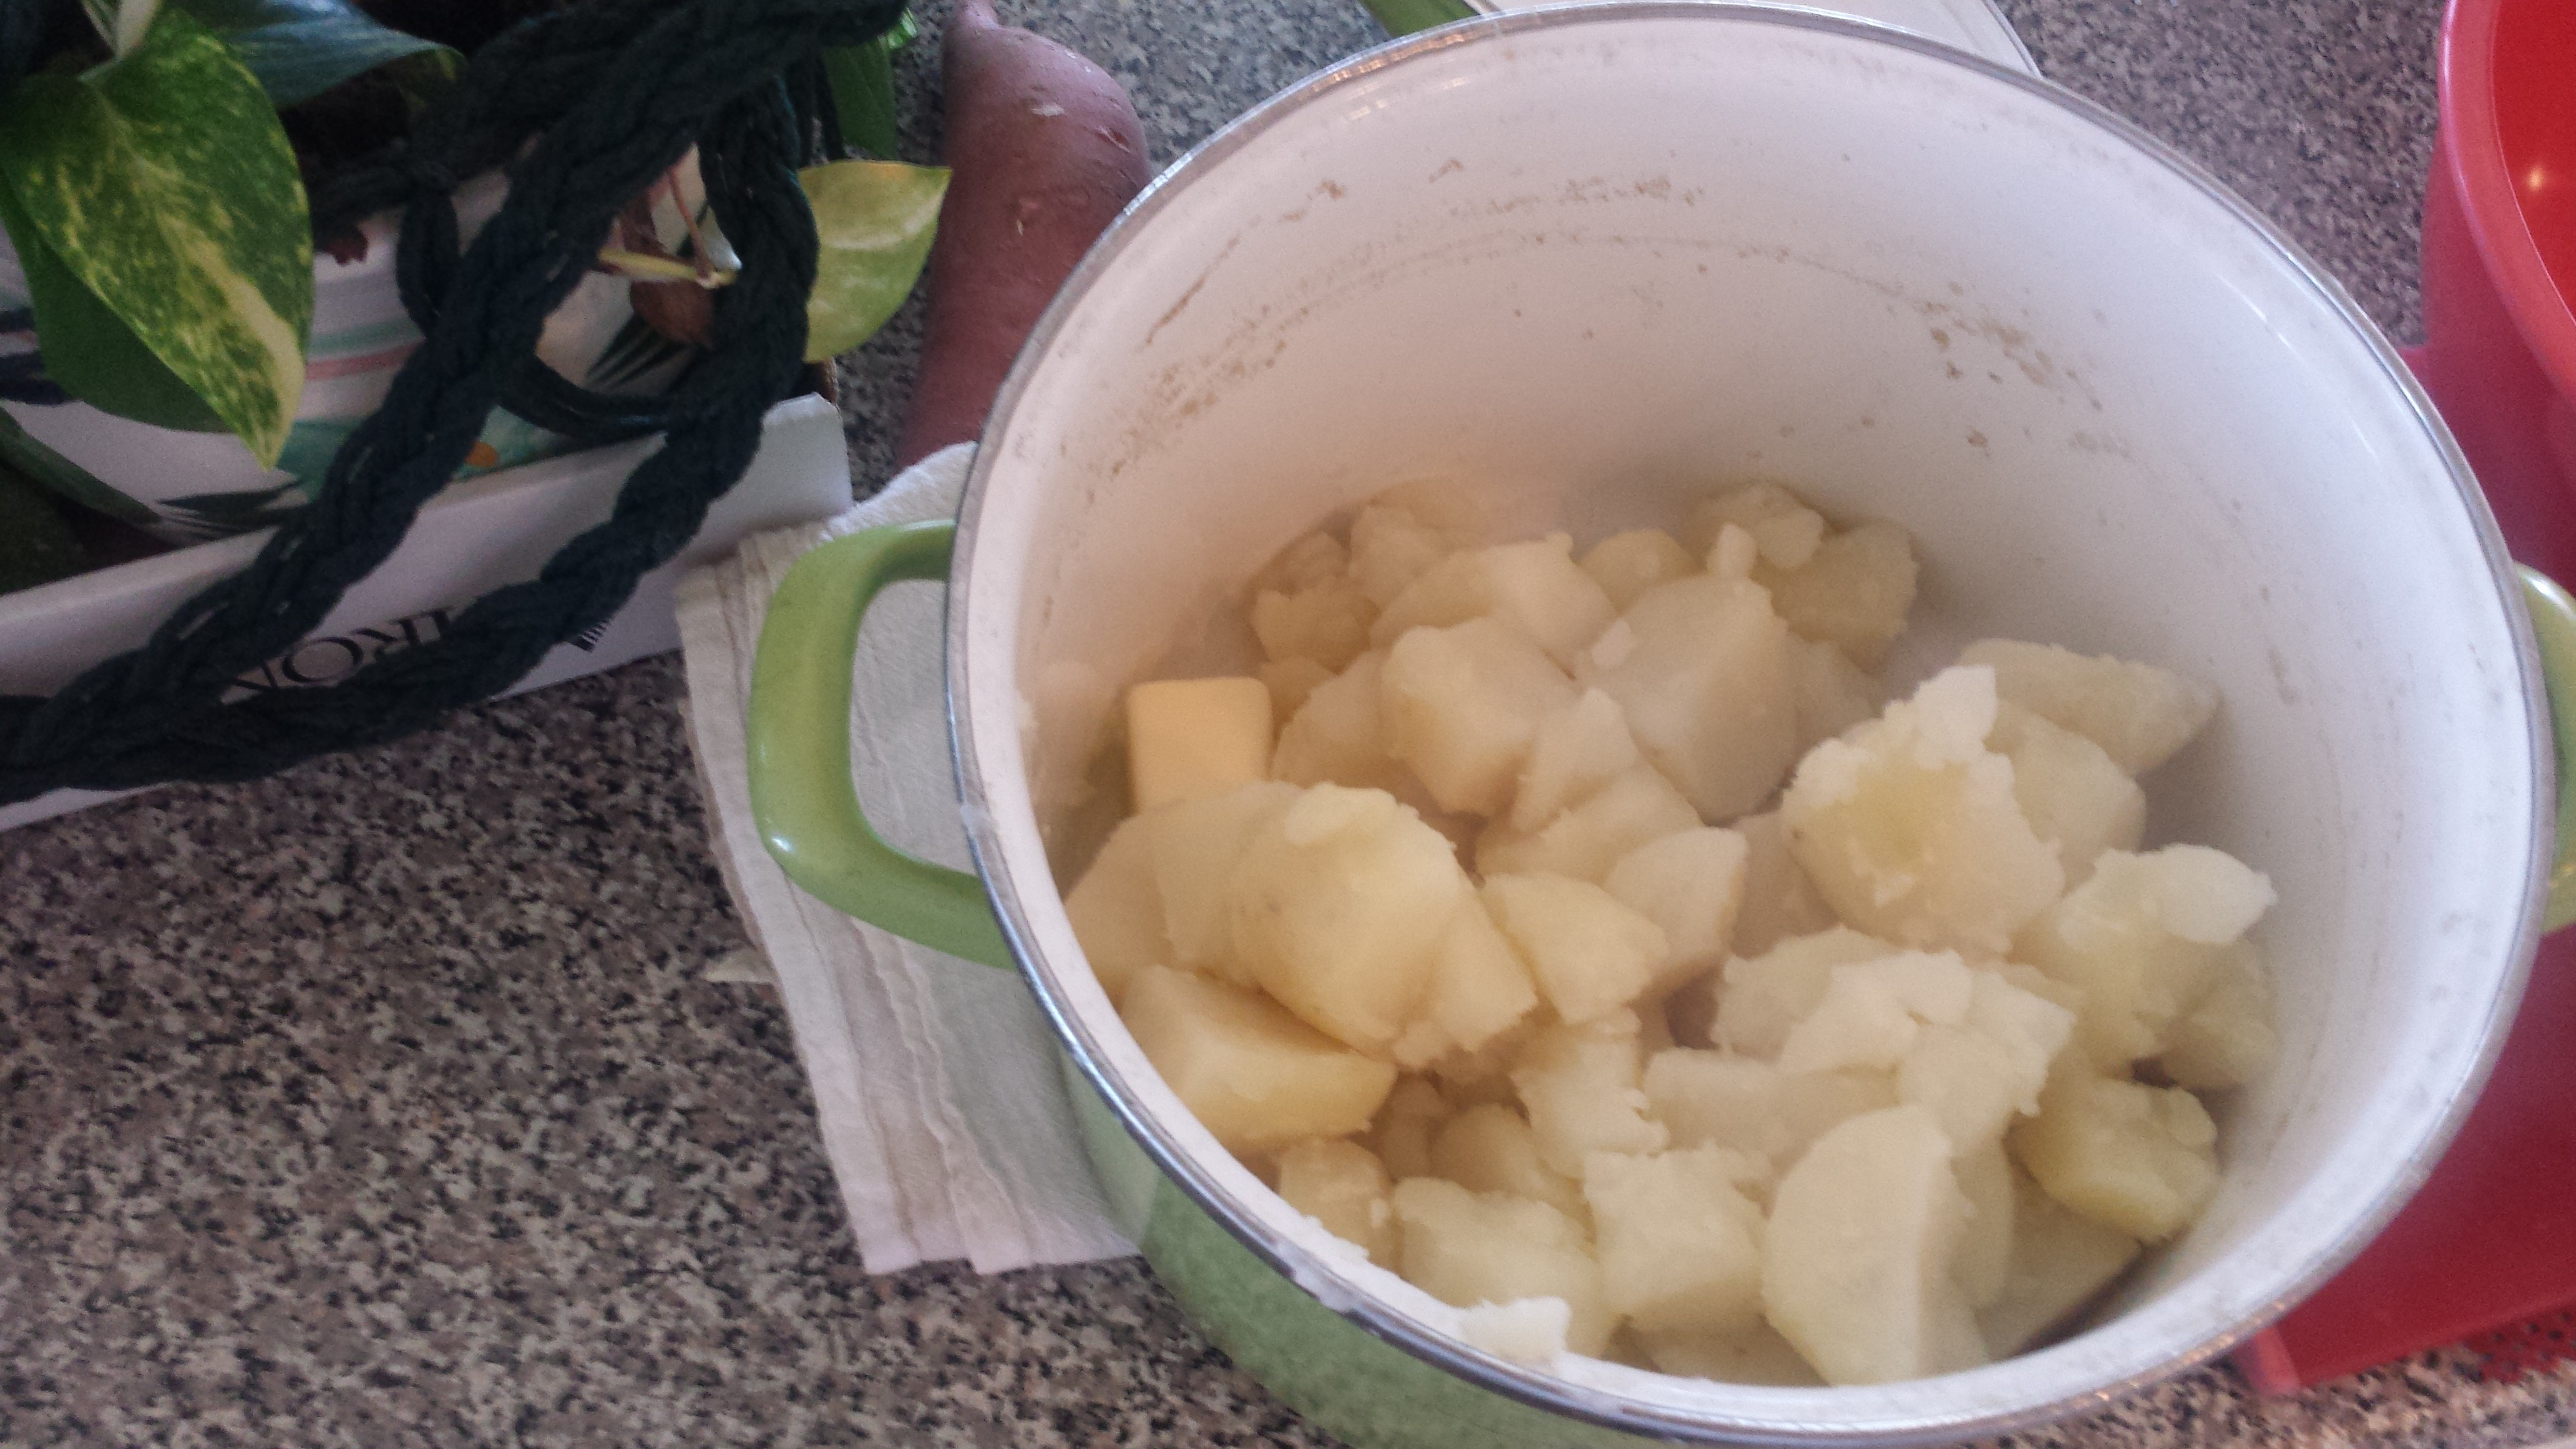boiled potatoes: (1154, 533, 2210, 1348)
